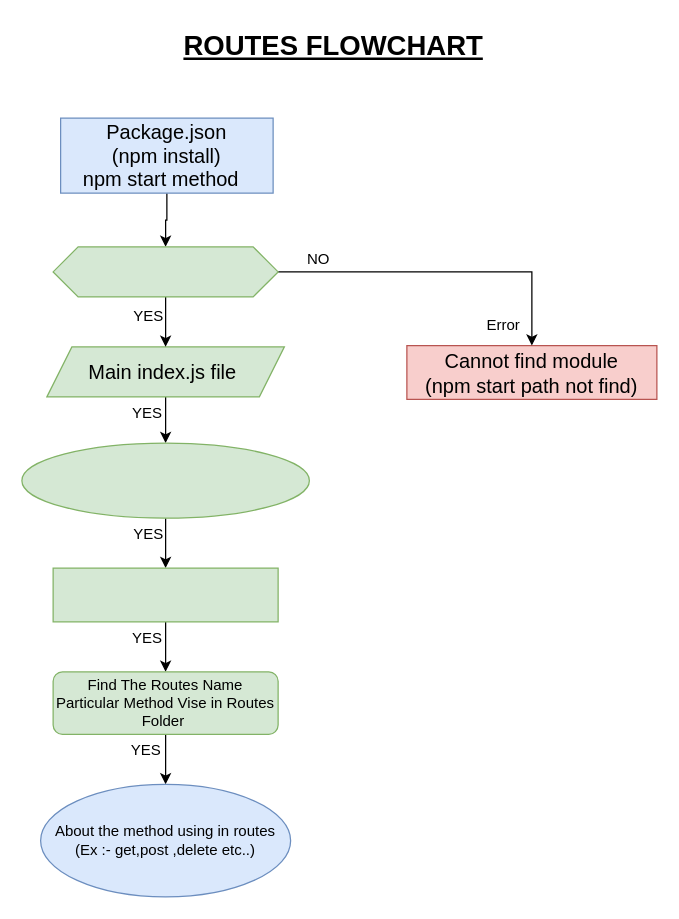
Some shapes in this 679 by 919 pixel diagram are drawn without their labels. Each missing label, with the centre of its shape:
"Routes main index.js file" belongs at point 165,594.
"Routes Namespace Checking" belongs at point 165,480.
"script (npm start method)" belongs at point 165,271.
